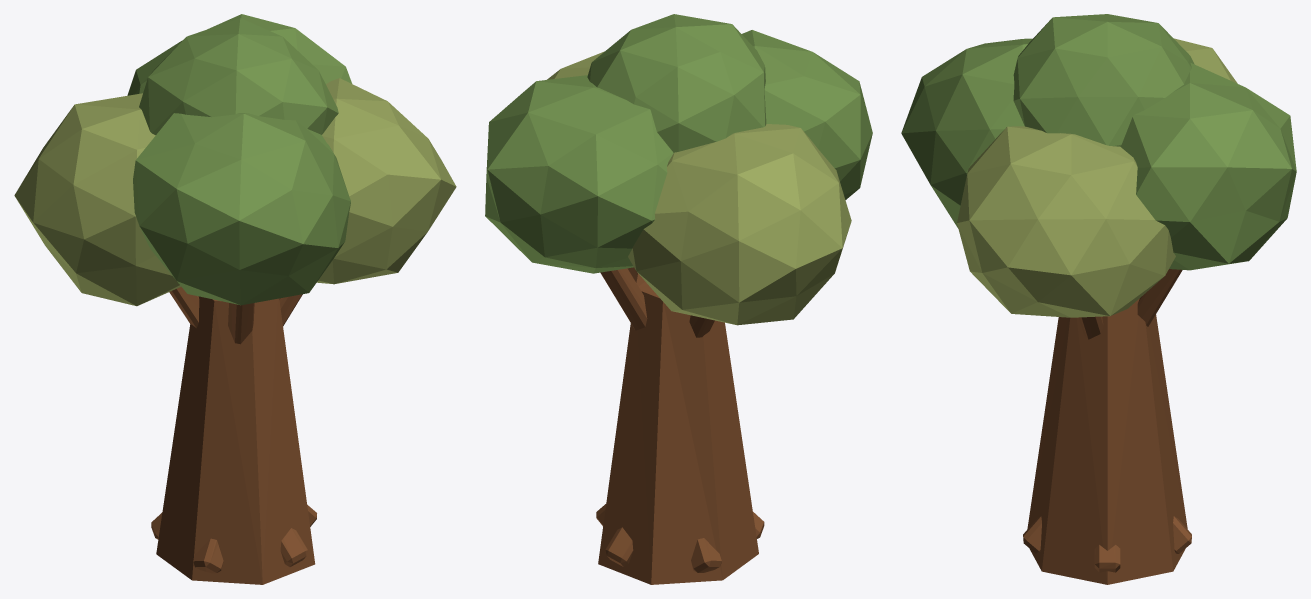
The model's file is tree_broadleaf_b.glb.
3 renders of one model, left to right at view 1: azimuth 30°, elevation 25°; view 2: azimuth 150°, elevation 25°; view 3: azimuth 270°, elevation 25°, orthographic.
Parts seen in each view (by area): view 1: canopy, trunk; view 2: canopy, trunk; view 3: canopy, trunk.
Part boxes in pixels (x1,y1,x2,y2): canopy: (14, 14, 456, 344); trunk: (151, 296, 316, 584); canopy: (485, 14, 872, 337); trunk: (596, 273, 764, 584); canopy: (901, 14, 1296, 339); trunk: (1023, 298, 1191, 584).
Size of the model in its own units: 1.87 by 2.49 by 1.69.
